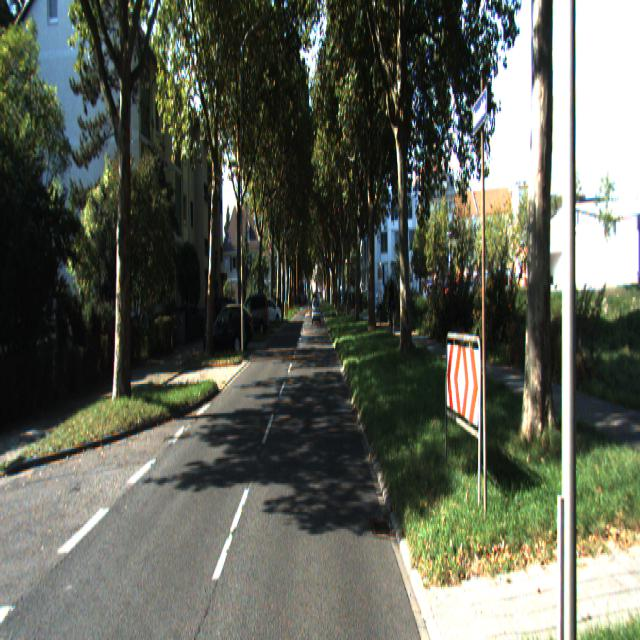Car: (205, 304, 248, 358)
